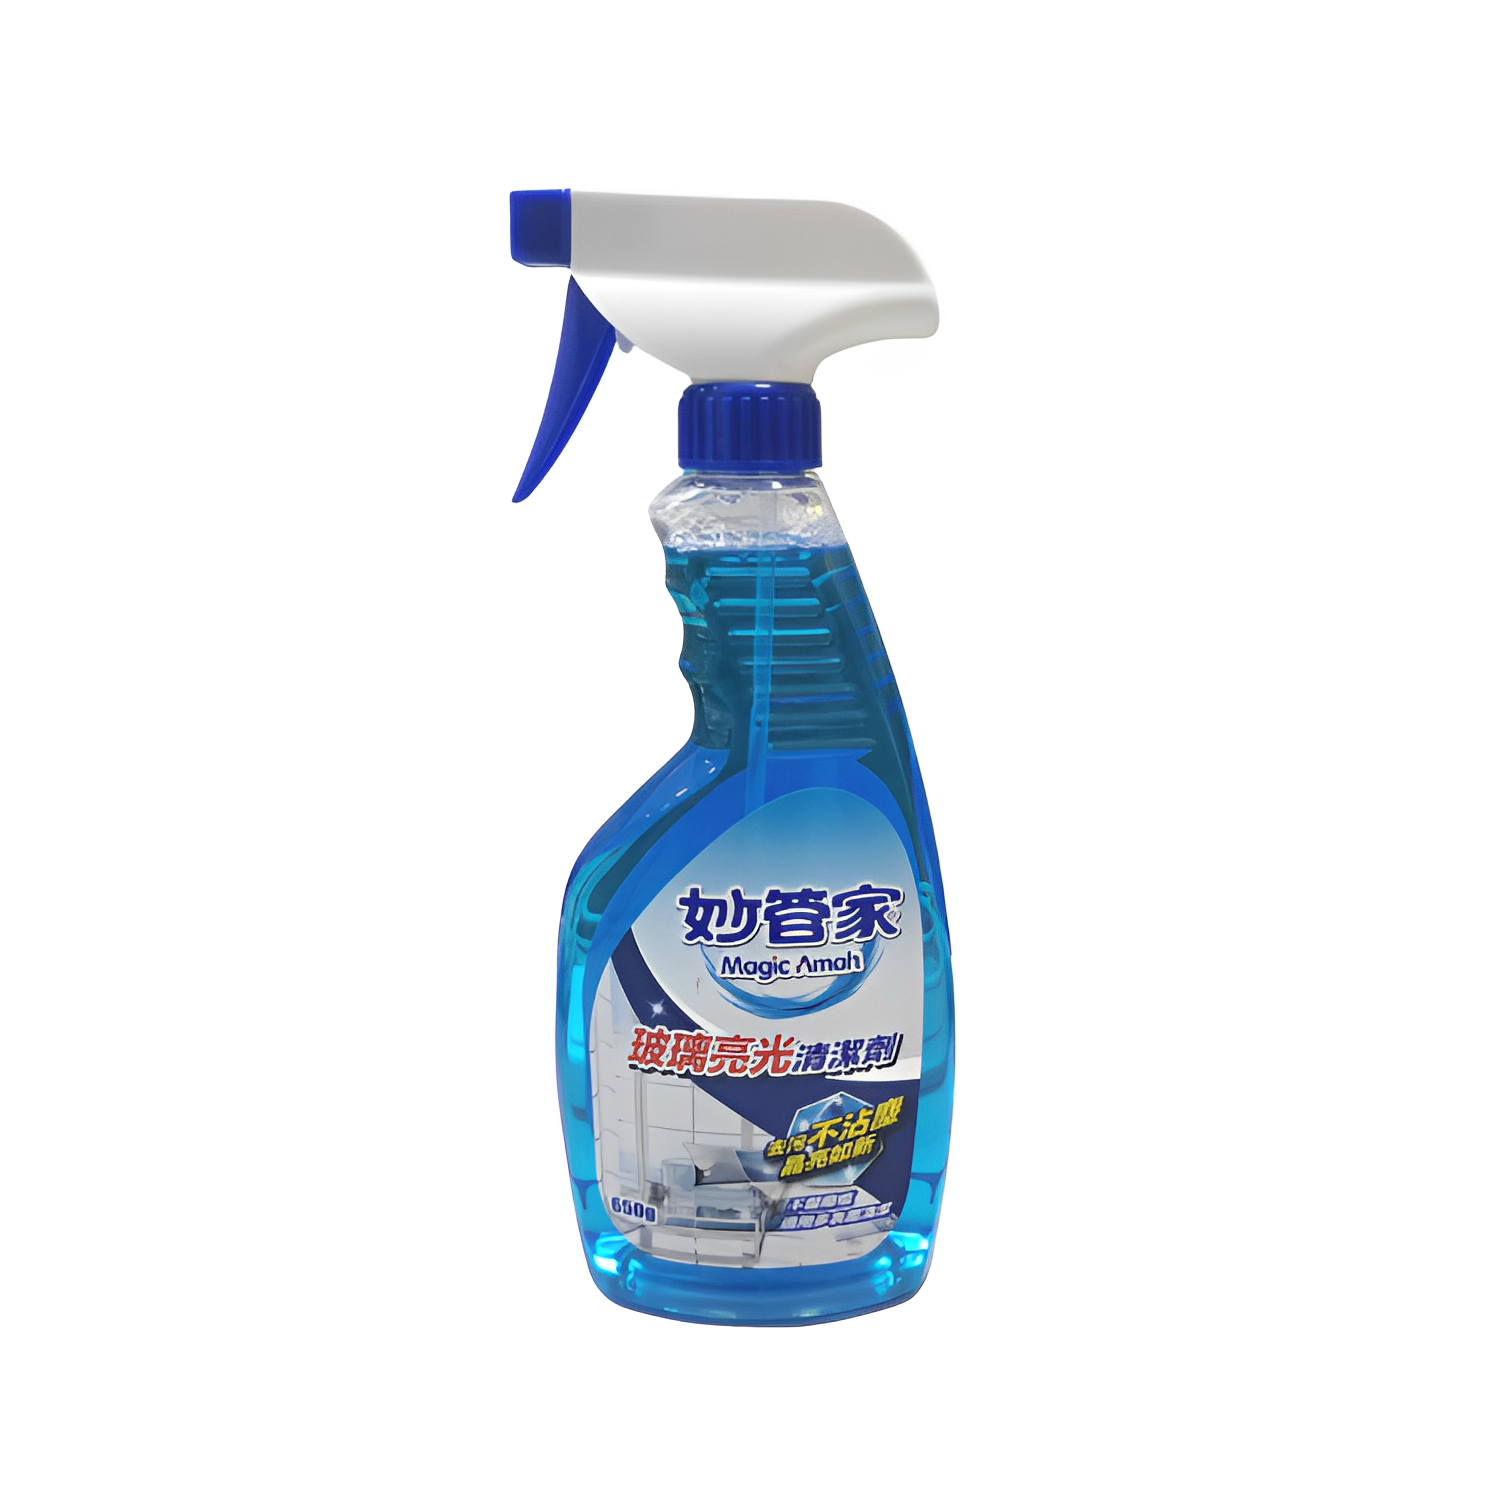cleaner: (471, 172, 977, 1334)
